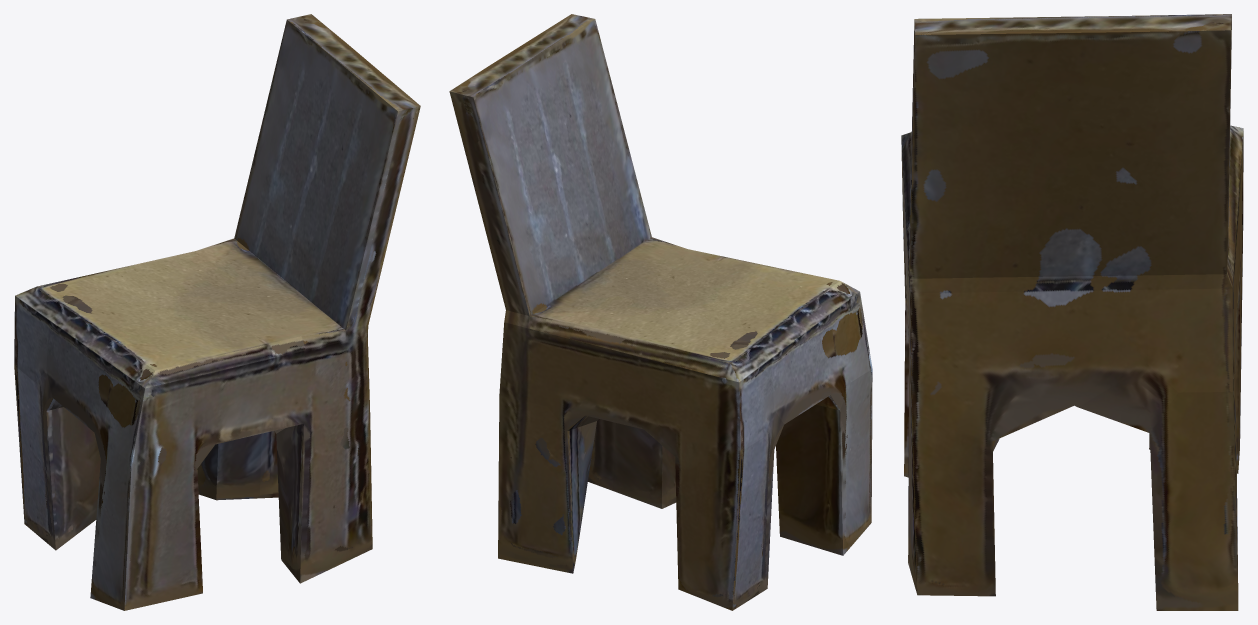
File: CornerManChair.fbx
3 views of the same model, side by side, from view 1: azimuth 30°, elevation 25°; view 2: azimuth 150°, elevation 25°; view 3: azimuth 270°, elevation 25° (orthographic). The views are drawn at different scales.
Visible parts, largest first — view 1: Cube.001; view 2: Cube.001; view 3: Cube.001.
Boxes of the visible parts, x1=… form: Cube.001: x1=14, y1=14, x2=420, y2=610; Cube.001: x1=449, y1=14, x2=872, y2=610; Cube.001: x1=901, y1=14, x2=1243, y2=610.
Bounding box in the file's own units: 15.34 × 21.8 × 10.86.
